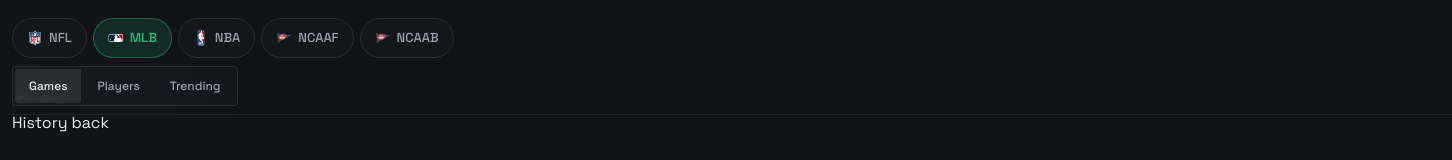
Test case: tapping the pill or tab for the screen already showing › still navigates to a different screen
What coordinates should you click on to do the following:
click the button "Players"
I would click on:
 (119, 86)
Its box is [84,69,154,103].
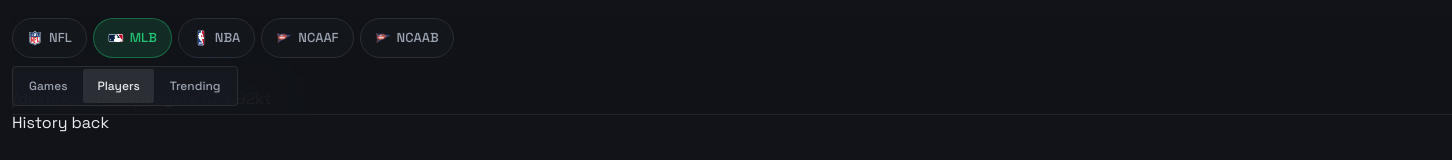
Expected: the text with test id "where" shows "/dashboard/mlb/players", [12,88,271,109]
What coordinates should you click on to do the following:
click the button "NFL"
I would click on:
 (49, 38)
Its box is [12,16,87,60].
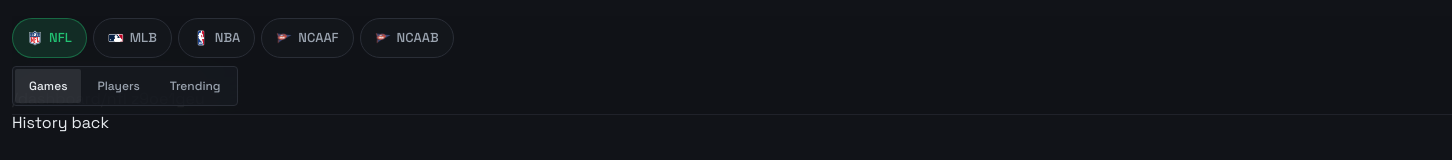
Expected: the text with test id "where" shows "/dashboard/nfl", [12,88,205,109]
